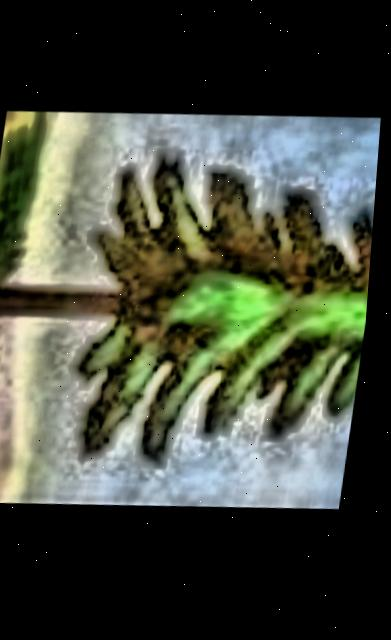El Pino: (0, 95, 385, 528)
